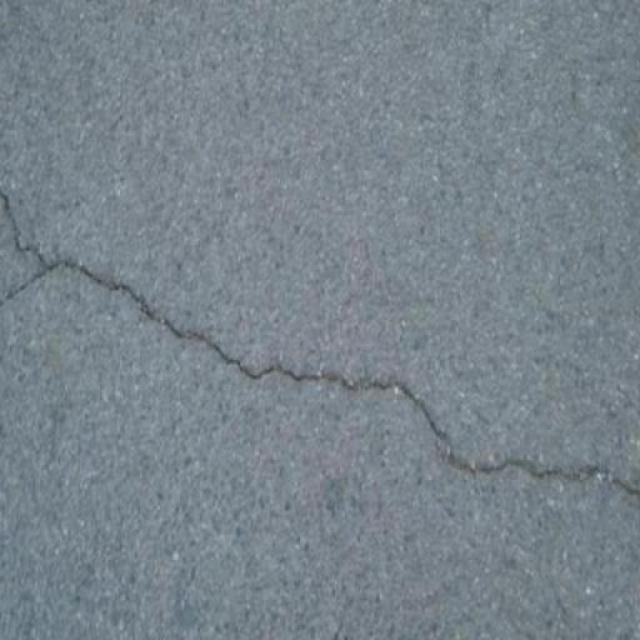Crack: (0, 179, 640, 499)
